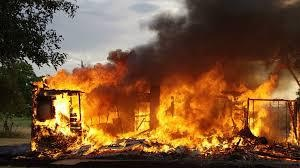fire: (23, 54, 296, 159)
